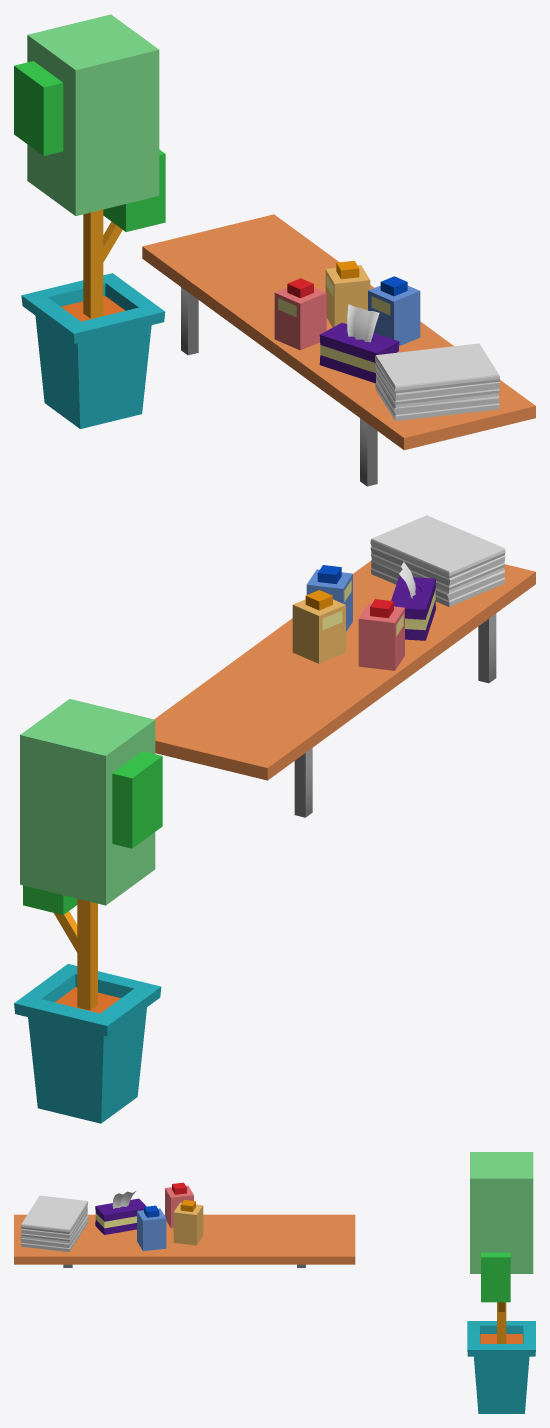
Rendered from SalaReunionesObjetos03.fbx.
The picture shows the model from 3 angles, top to bottom: view 1: azimuth 30°, elevation 25°; view 2: azimuth 150°, elevation 25°; view 3: azimuth 270°, elevation 25°; orthographic projection. The views are drawn at different scales.
Visible parts, largest first — view 1: SalaReunionesObjetos03; view 2: SalaReunionesObjetos03; view 3: SalaReunionesObjetos03.
Part boxes in pixels (box(x1,y1,x2,y2)): SalaReunionesObjetos03: box(14, 14, 535, 486); SalaReunionesObjetos03: box(14, 515, 535, 1123); SalaReunionesObjetos03: box(14, 1152, 535, 1413).
Size of the model in its own units: 51.96 by 138 by 273.
